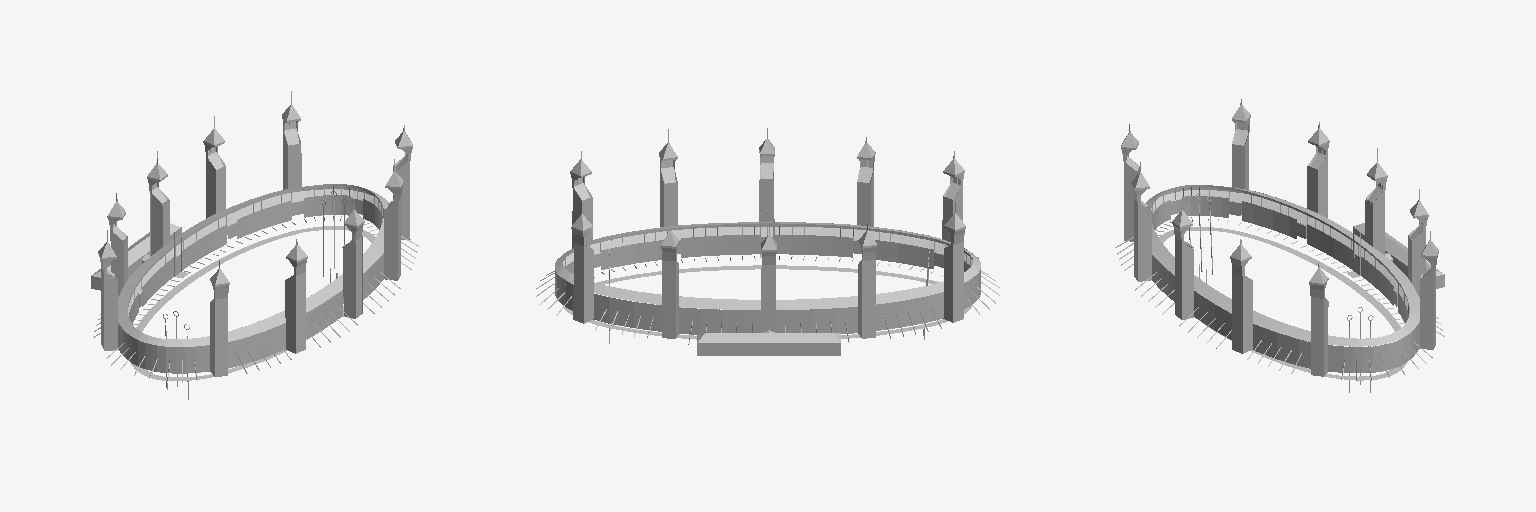
File: quiddich_stadium_.obj
3 renders of one model, left to right at view 1: azimuth 30°, elevation 25°; view 2: azimuth 150°, elevation 25°; view 3: azimuth 270°, elevation 25°, orthographic.
Visible parts, largest first — view 1: DrawCall_0051, DrawCall_0012, DrawCall_0055, DrawCall_0020, DrawCall_0015, DrawCall_0011, DrawCall_0008, DrawCall_0005, DrawCall_0018, DrawCall_0059, DrawCall_0013, DrawCall_0007 (+10 smaller); view 2: DrawCall_0051, DrawCall_0055, DrawCall_0015, DrawCall_0053, DrawCall_0052, DrawCall_0009, DrawCall_0006, DrawCall_0010, DrawCall_0007, DrawCall_0013, DrawCall_0004, DrawCall_0019 (+13 smaller); view 3: DrawCall_0051, DrawCall_0055, DrawCall_0004, DrawCall_0020, DrawCall_0015, DrawCall_0008, DrawCall_0013, DrawCall_0011, DrawCall_0017, DrawCall_0078, DrawCall_0010, DrawCall_0005 (+11 smaller).
Part boxes in pixels (x1,y1,x2,y2): DrawCall_0051: (118,186,383,373); DrawCall_0012: (237,195,350,238); DrawCall_0055: (128,189,383,315); DrawCall_0020: (151,195,362,318); DrawCall_0015: (130,226,375,380); DrawCall_0011: (110,203,397,296); DrawCall_0008: (206,158,295,353); DrawCall_0005: (104,163,410,350); DrawCall_0018: (210,118,297,376); DrawCall_0059: (151,186,306,346); DrawCall_0013: (210,132,301,376); DrawCall_0007: (204,144,306,353); DrawCall_0051: (555,222,980,334); DrawCall_0055: (558,227,972,314); DrawCall_0015: (563,265,971,339); DrawCall_0053: (769,330,840,355); DrawCall_0052: (697,330,768,355); DrawCall_0009: (681,235,759,257); DrawCall_0006: (775,235,852,257); DrawCall_0010: (659,156,876,338); DrawCall_0007: (661,156,957,338); DrawCall_0013: (584,188,962,323); DrawCall_0004: (565,240,663,273); DrawCall_0019: (761,156,776,332); DrawCall_0051: (1150,186,1419,372); DrawCall_0055: (1151,190,1419,336); DrawCall_0004: (1183,196,1303,340); DrawCall_0020: (1182,193,1384,319); DrawCall_0015: (1159,227,1406,380); DrawCall_0008: (1138,204,1425,297); DrawCall_0013: (1124,164,1433,349); DrawCall_0011: (1243,158,1327,353); DrawCall_0017: (1233,119,1328,376); DrawCall_0078: (1222,186,1387,346); DrawCall_0010: (1231,143,1328,353); DrawCall_0005: (1232,136,1328,375).
Size of the model in its own units: 2606 by 1152 by 2028.